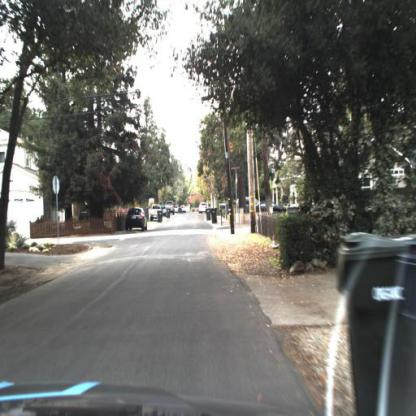car: (126, 205, 151, 235), (124, 207, 149, 233), (255, 201, 287, 216), (237, 195, 260, 210), (151, 205, 163, 220), (166, 201, 176, 216), (199, 201, 209, 214), (161, 205, 169, 217)
